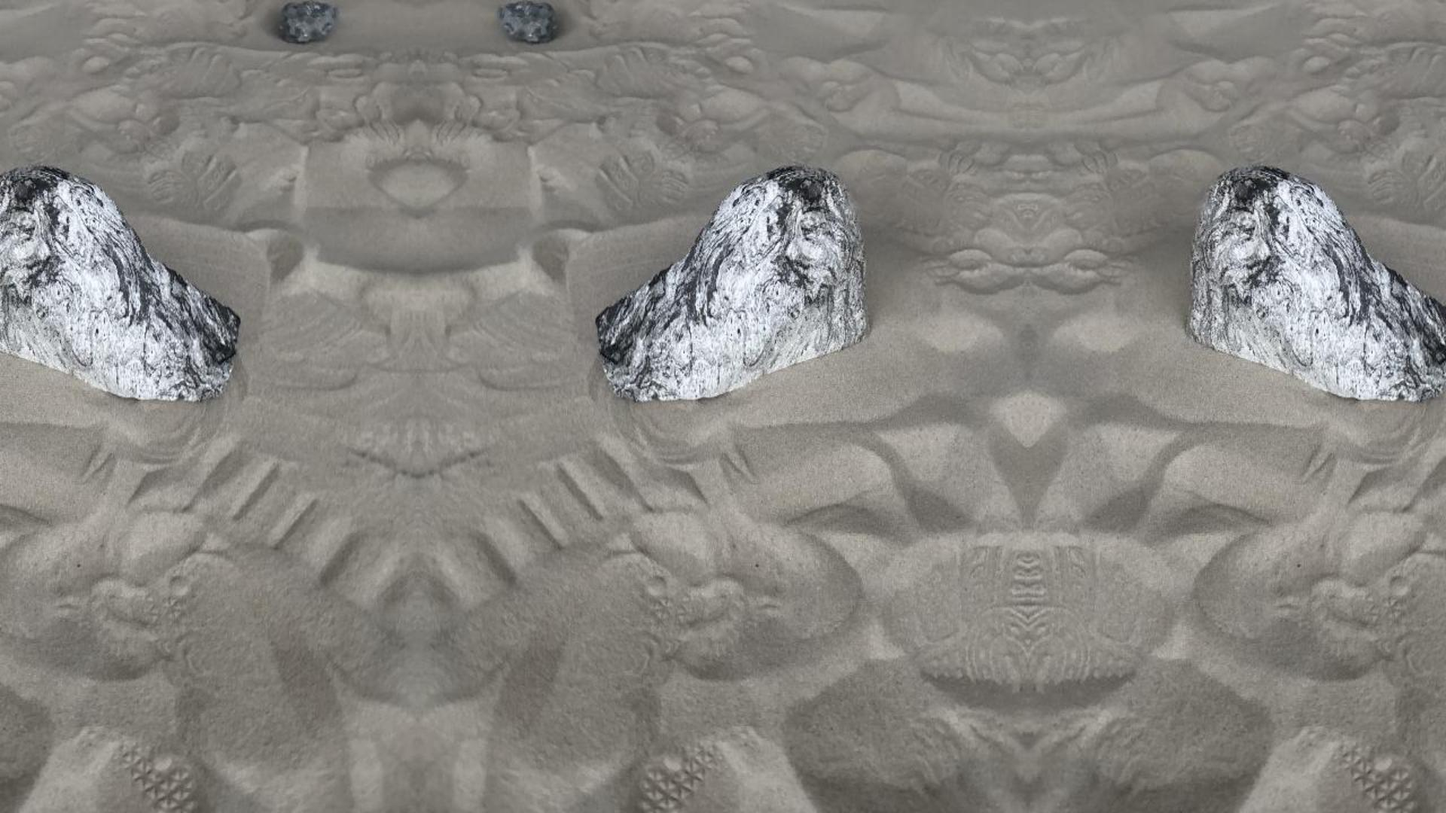rock: (595, 165, 866, 401), (1187, 165, 1445, 400), (0, 166, 239, 400), (497, 0, 557, 43), (279, 0, 338, 43)
